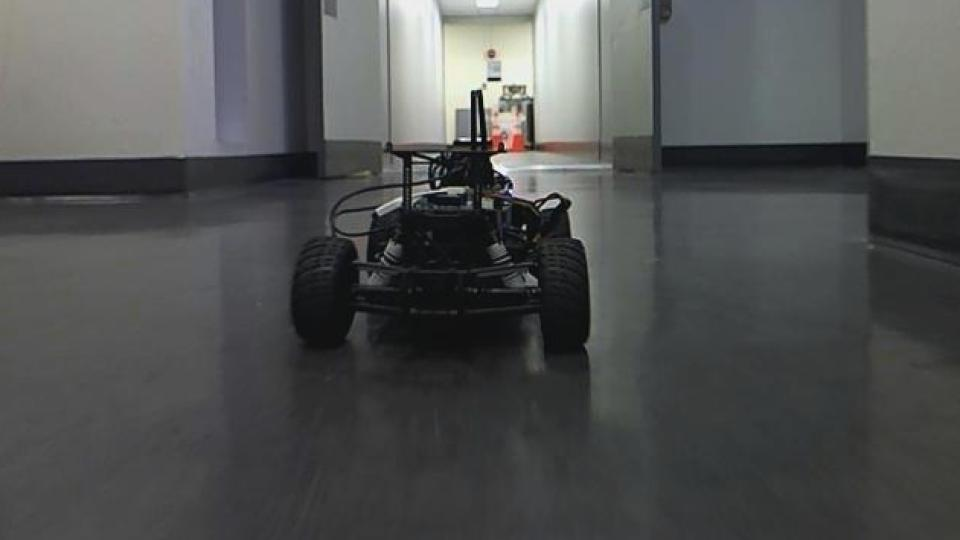car: (286, 88, 594, 354)
